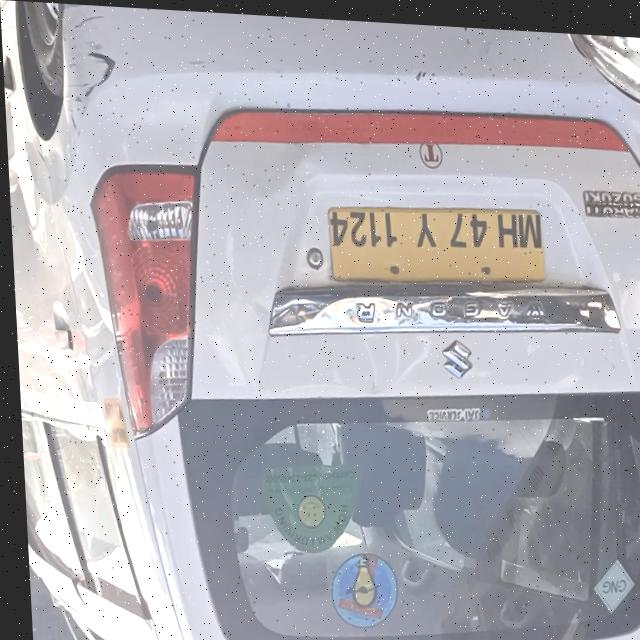plate: (322, 191, 542, 291)
